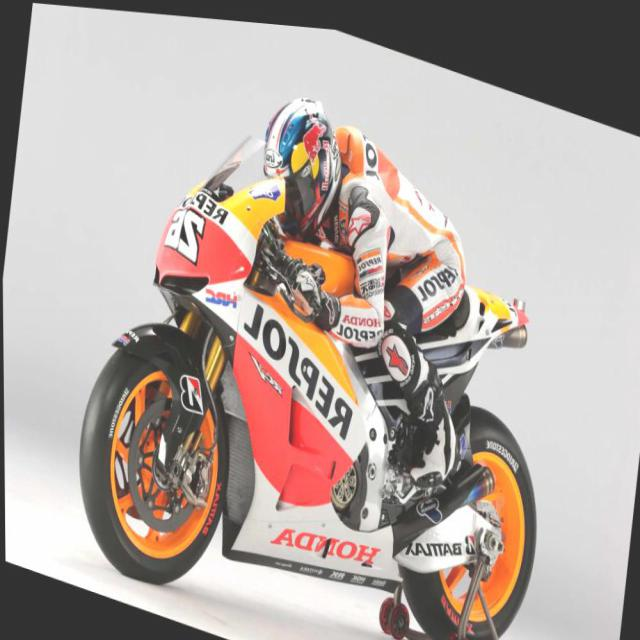HRC RCV 213: (59, 89, 566, 639)
